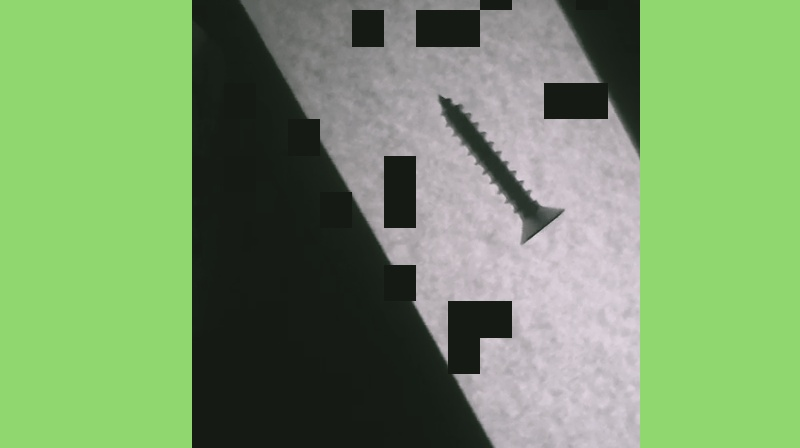S001: (434, 90, 568, 248)
